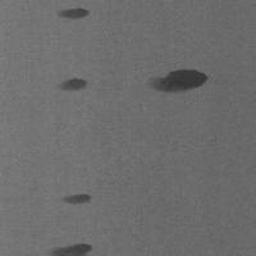Oil spot: (143, 68, 210, 95), (44, 242, 95, 256), (56, 77, 90, 93), (55, 6, 91, 20), (58, 192, 93, 206)
